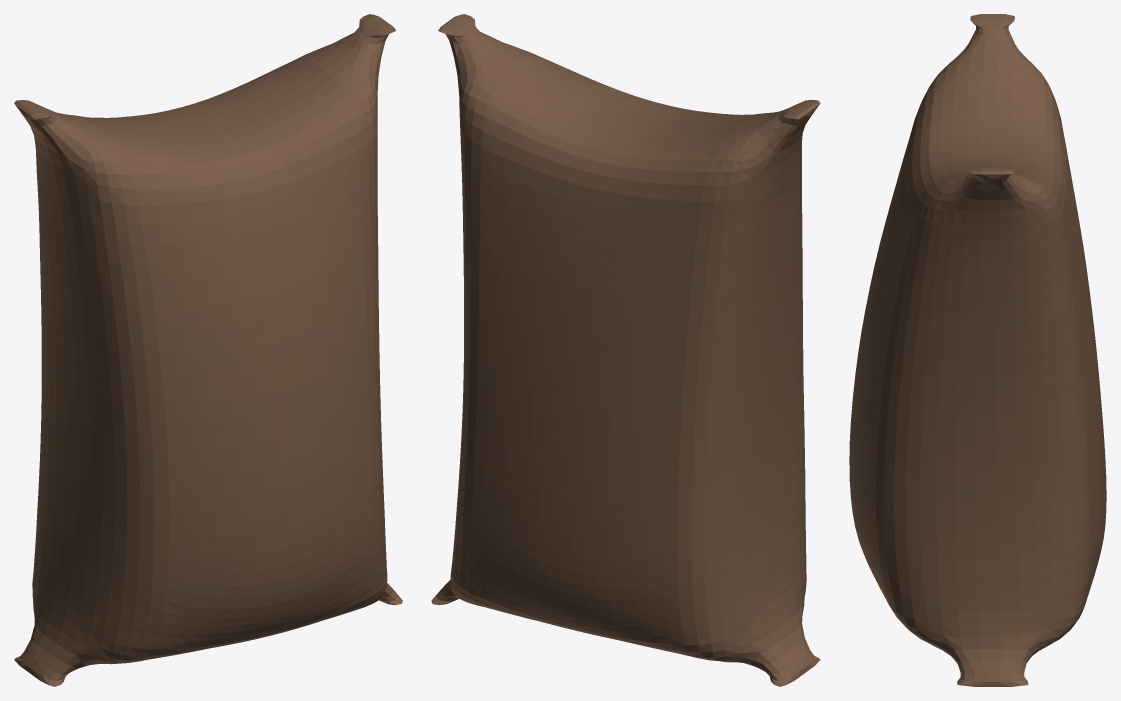
File: flourSack.obj
The picture shows the model from 3 angles, left to right: view 1: azimuth 30°, elevation 25°; view 2: azimuth 150°, elevation 25°; view 3: azimuth 270°, elevation 25°; orthographic projection. The views are drawn at different scales.
Parts seen in each view (by area): view 1: Box01; view 2: Box01; view 3: Box01.
Boxes of the visible parts, bbox=[...] form: Box01: bbox=[14, 14, 402, 686]; Box01: bbox=[431, 14, 820, 686]; Box01: bbox=[849, 14, 1106, 686].
Size of the model in its own units: 2.52 by 3.77 by 1.71.
